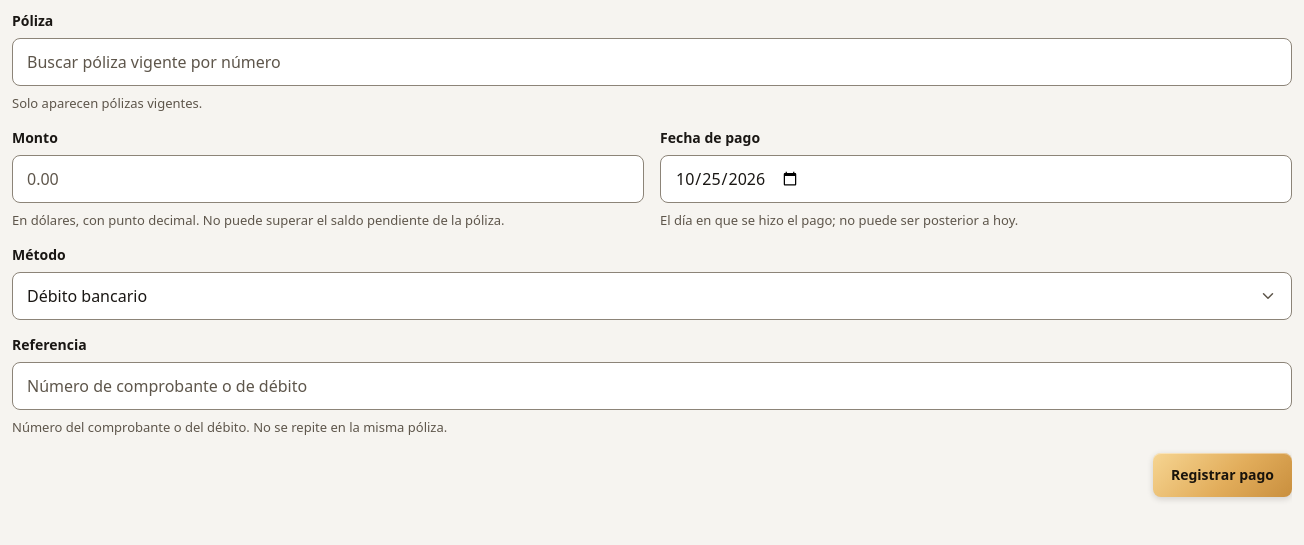
Test: FormularioPago (HU-16) › no envía sin referencia y lo indica bajo el campo
Type "POL" into the dropdown labelled "Póliza" at coordinates (652, 62), box [12,38,1292,86]
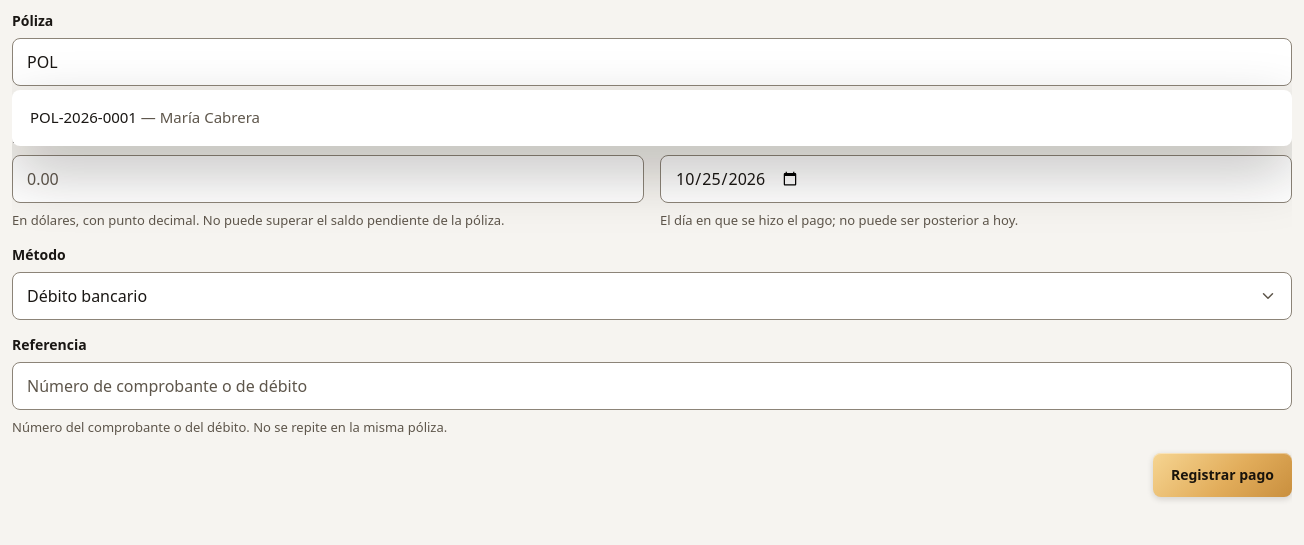
Click the option "POL-2026-0001 — María Cabrera" at coordinates (145, 117), box [30,107,260,127]
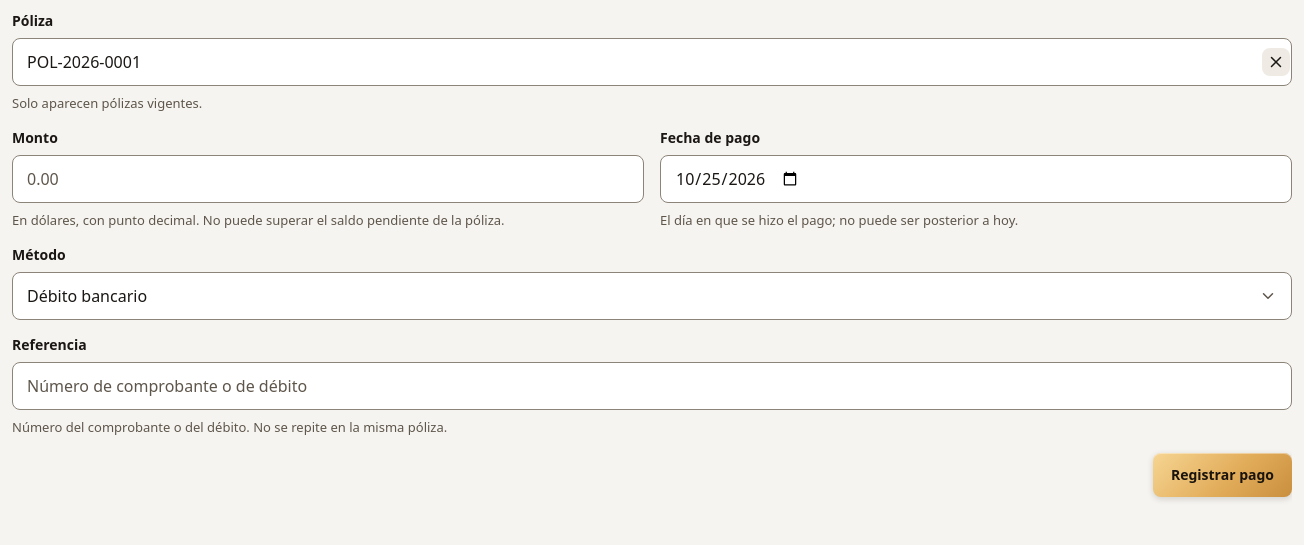
Type "100.00" into the field labelled "Monto" at coordinates (328, 179), box [12,155,644,203]
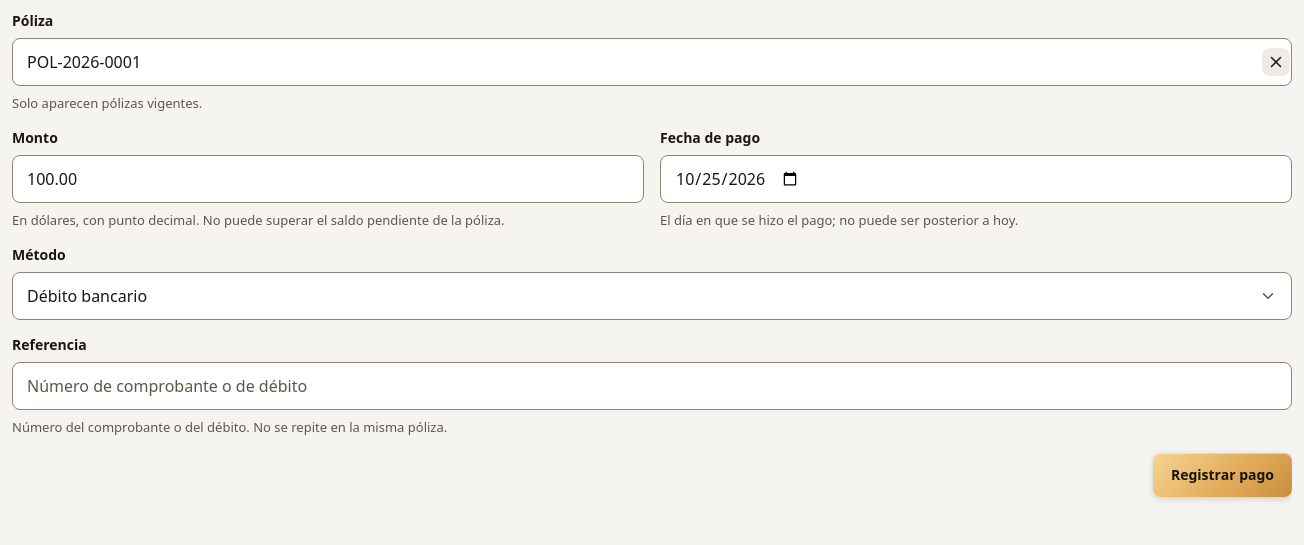
Click the button "Registrar pago" at coordinates (1222, 475), box [1153,453,1292,497]
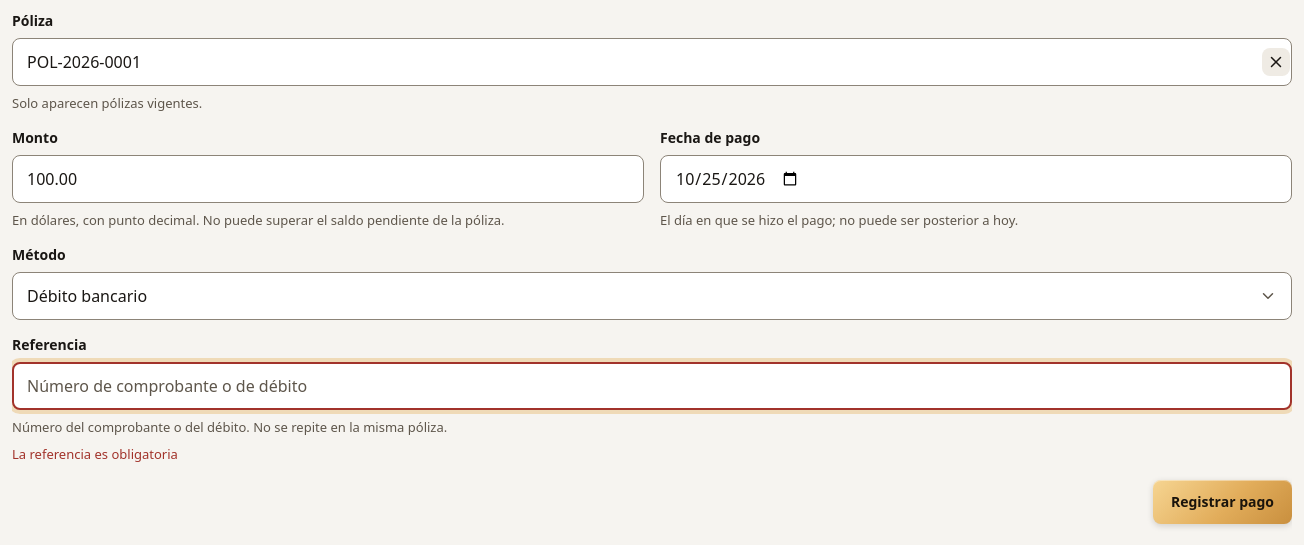
Expected: the text "La referencia es obligatoria" is shown, [12,445,178,463]
